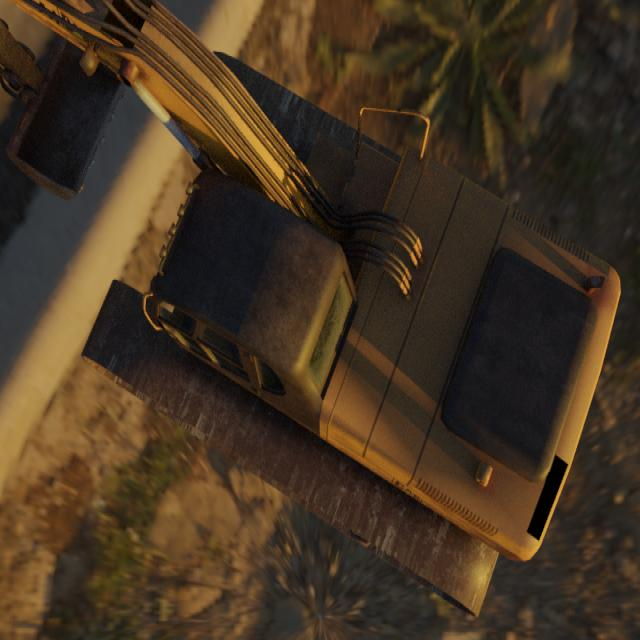excavator: (0, 0, 621, 619)
